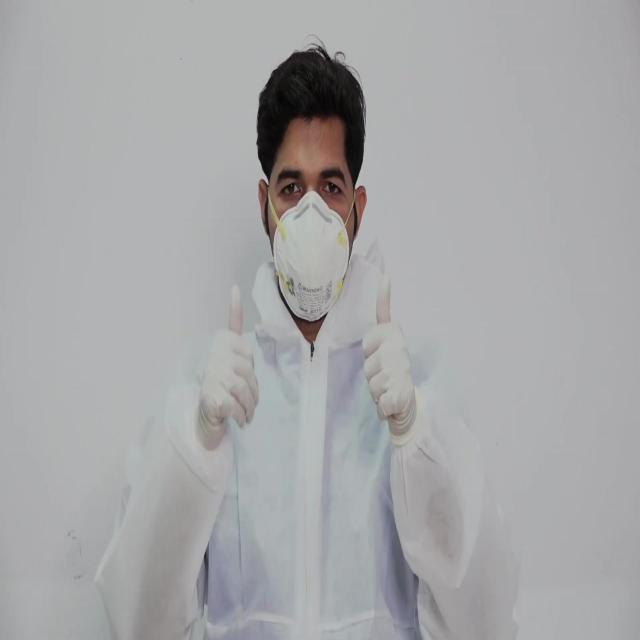Gloves: (194, 283, 258, 447), (361, 272, 417, 436)
